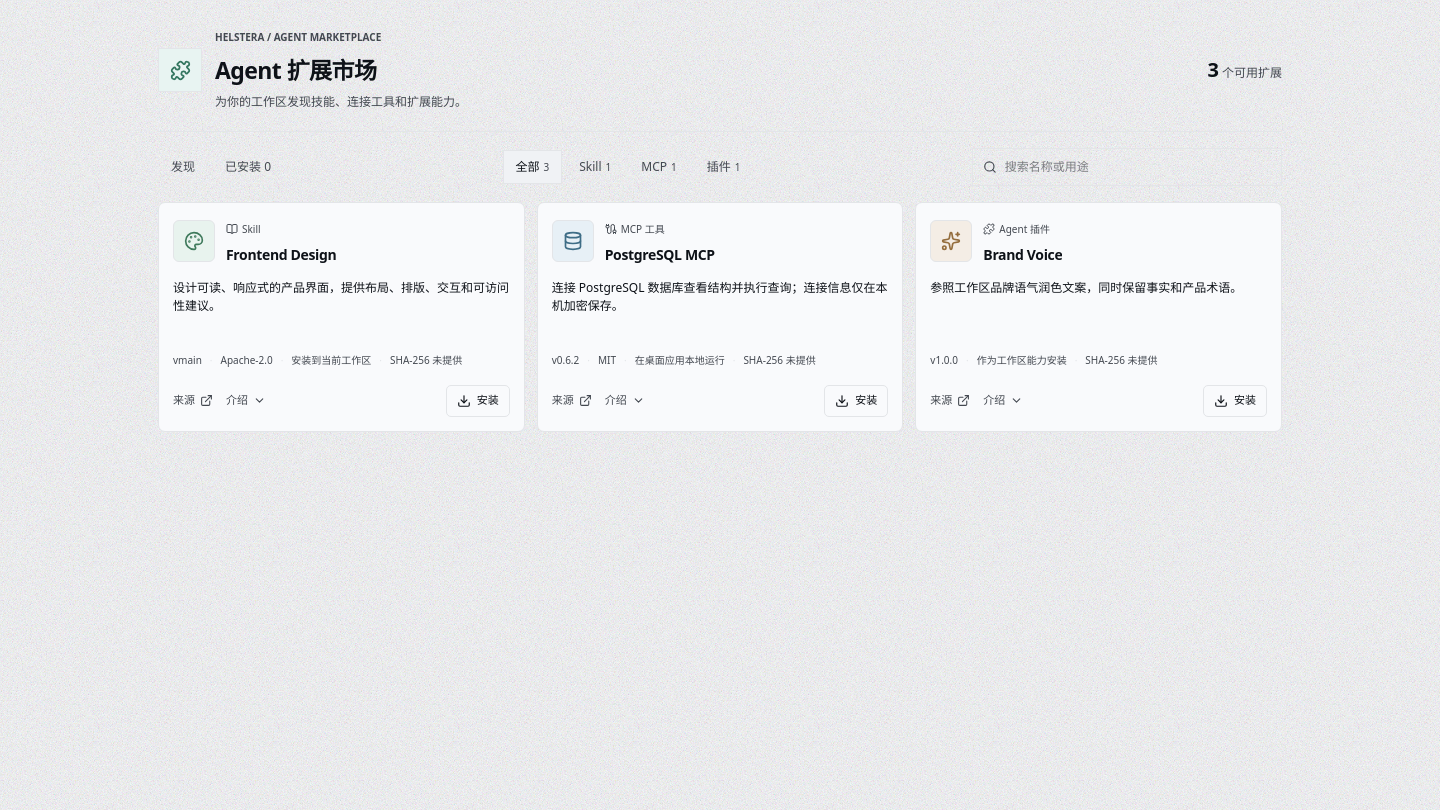
Test case: Agent marketplace feedback layer › renders a filtered-out state with a clear-filters action that restores the catalog
Expected: the heading "Frontend Design" is shown, x1=226 y1=244 x2=336 y2=264
Type "zzz-no-such-extension" into the field named "搜索市场" at coordinates (1138, 166), box x1=1005 y1=148 x2=1271 y2=184
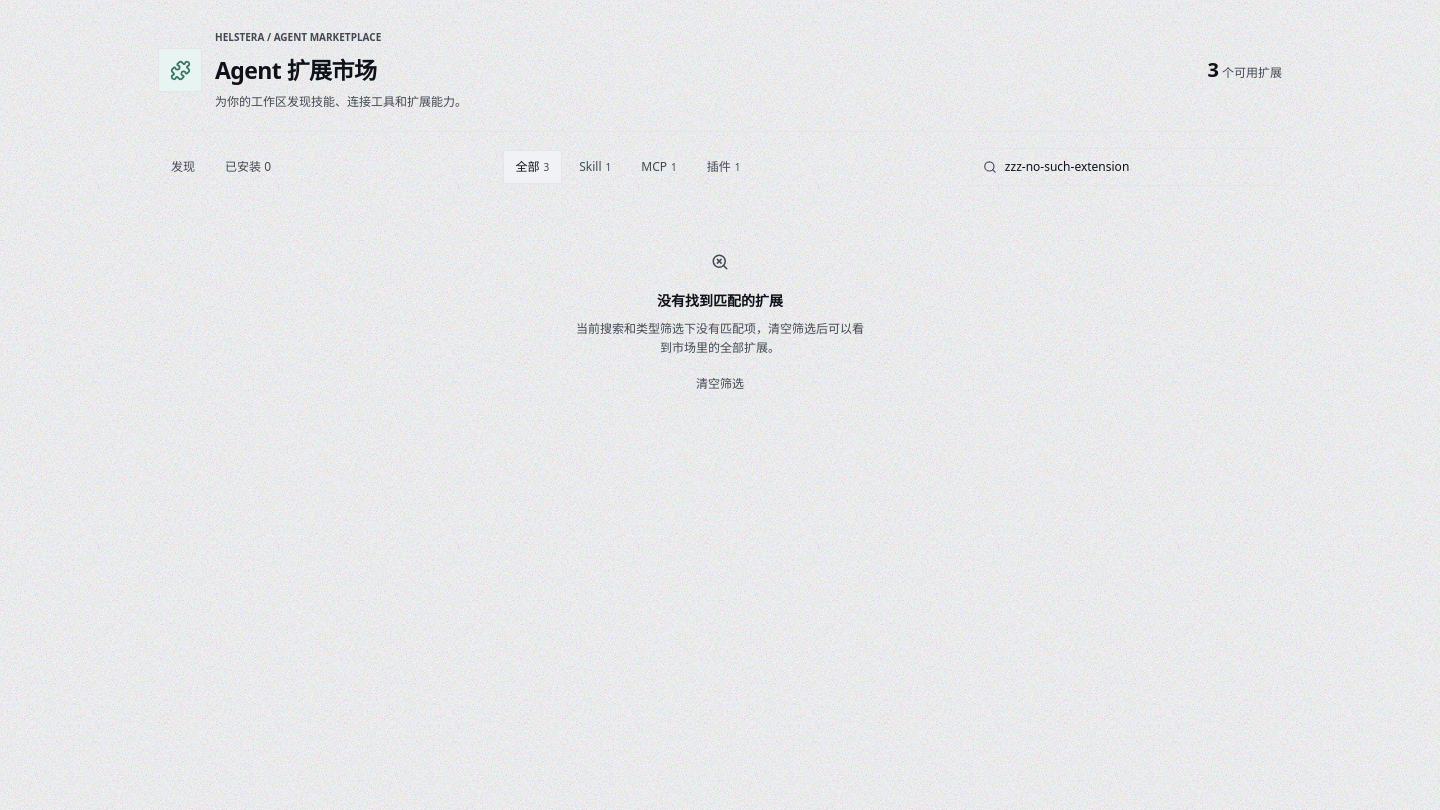
Now the text "没有找到匹配的扩展" is shown, box x1=657 y1=290 x2=783 y2=310
Click the button "清空筛选" at coordinates (720, 384), box x1=683 y1=369 x2=757 y2=399
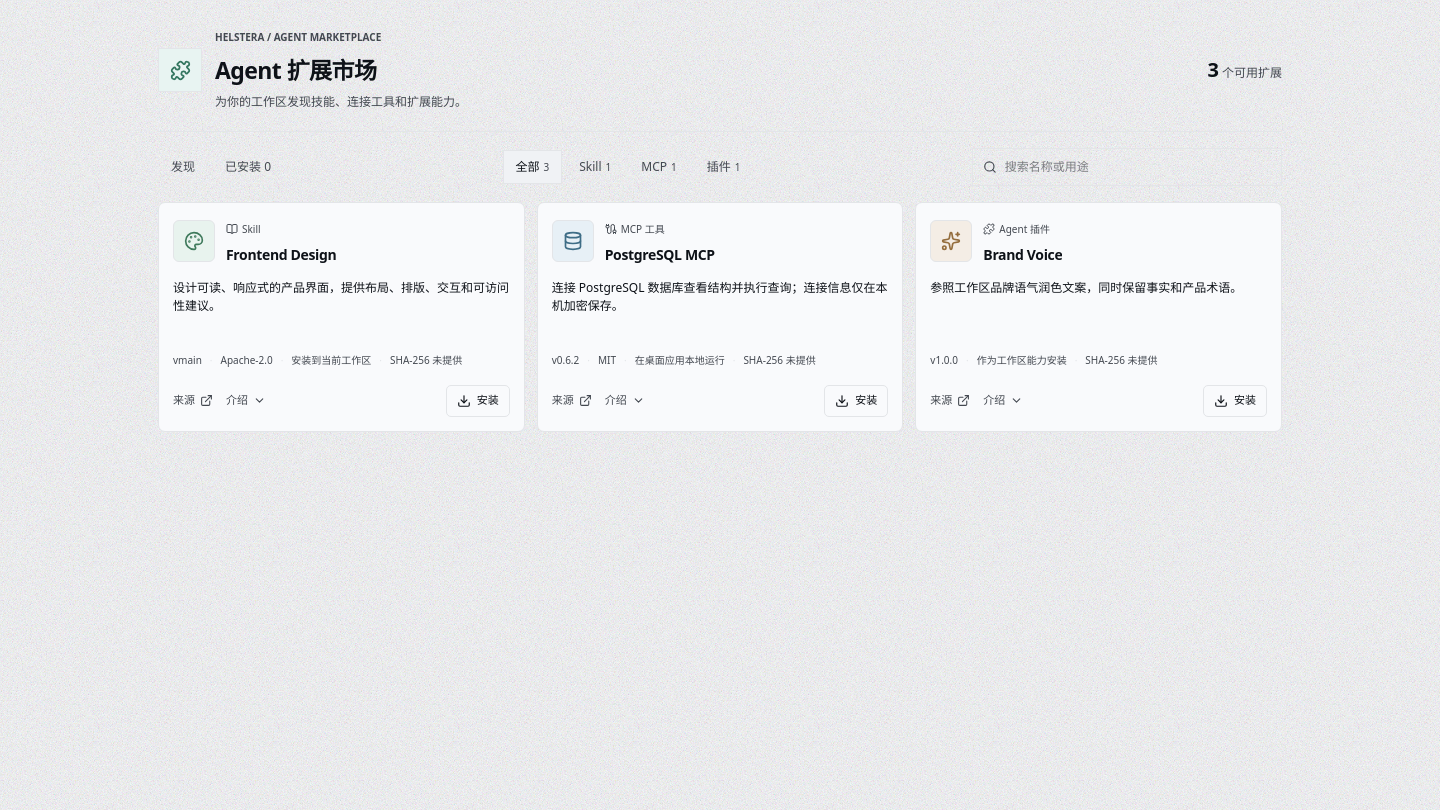
Now the heading "Frontend Design" is shown, box x1=226 y1=244 x2=336 y2=264
Now the text "没有找到匹配的扩展" is gone
